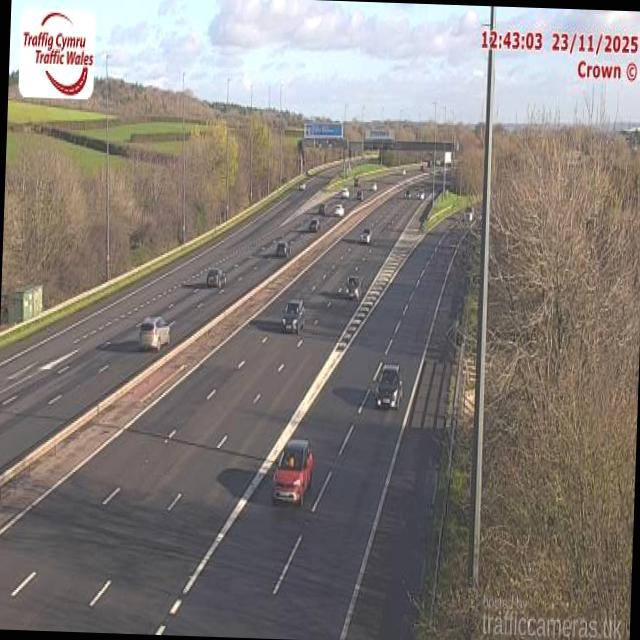foliage: (475, 126, 640, 640), (1, 137, 103, 303), (1, 143, 104, 303), (109, 157, 180, 274), (434, 423, 470, 640), (186, 122, 223, 237), (110, 178, 134, 273), (252, 114, 272, 198), (229, 131, 247, 213)
